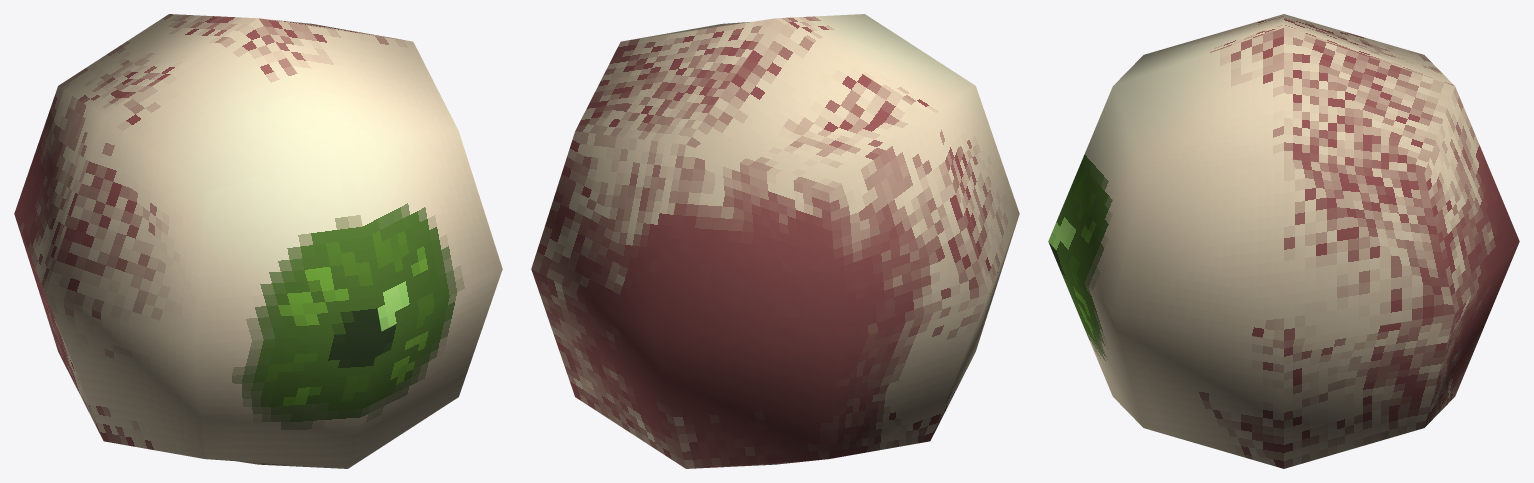
File: Eye.glb
3 views of the same model, side by side, from view 1: azimuth 30°, elevation 25°; view 2: azimuth 150°, elevation 25°; view 3: azimuth 270°, elevation 25° (orthographic). The views are drawn at different scales.
Visible parts, largest first — view 1: Cube.001; view 2: Cube.001; view 3: Cube.001.
Part boxes in pixels (<box>): Cube.001: <box>14,14,502,468</box>; Cube.001: <box>531,14,1019,468</box>; Cube.001: <box>1048,14,1519,468</box>.
Size of the model in its own units: 1.28 by 1.28 by 1.28.
1 material, 1 textured.
